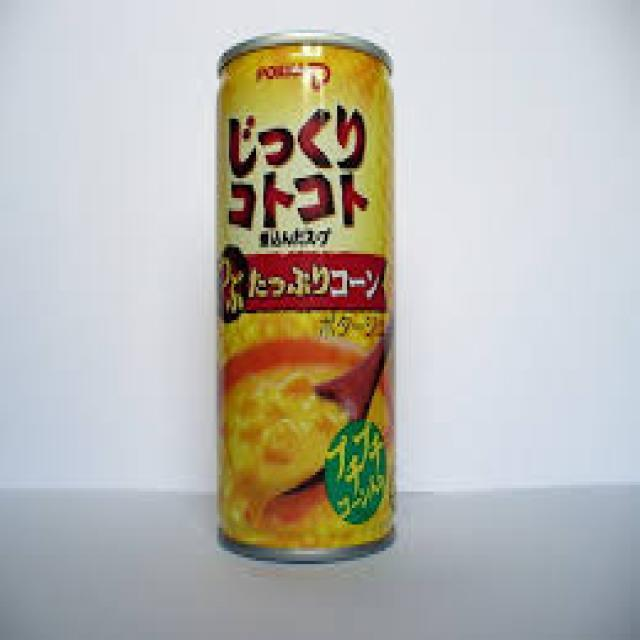recyclable: (216, 28, 395, 563)
